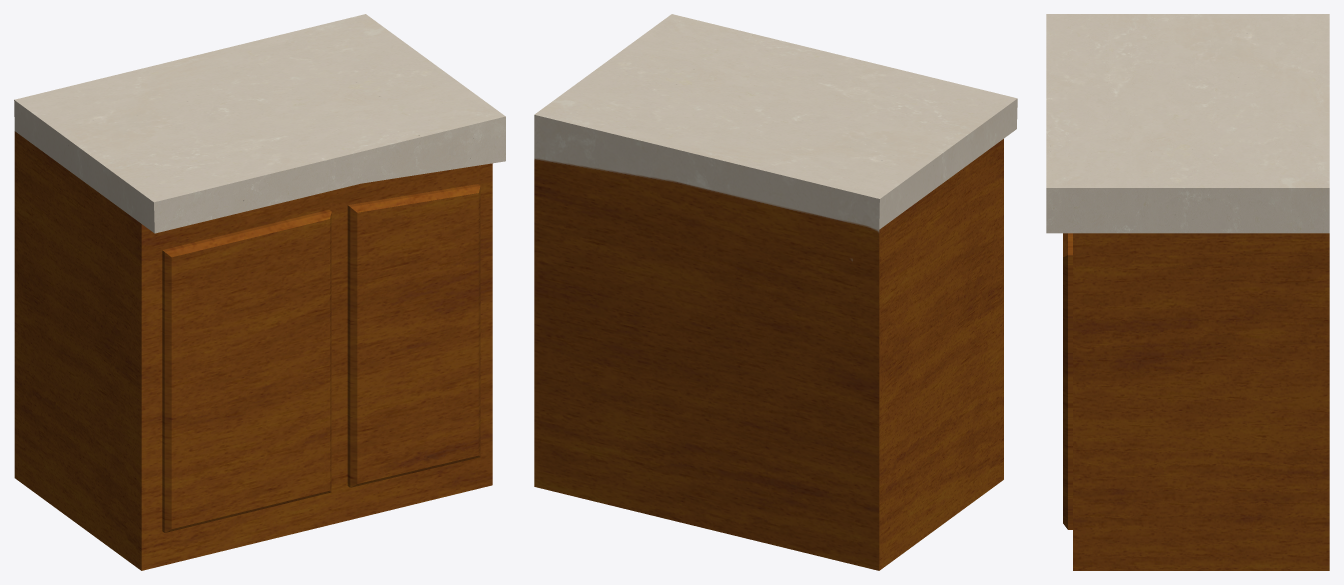
The model's file is Counter5.fbx.
3 views of the same model, side by side, from view 1: azimuth 30°, elevation 25°; view 2: azimuth 150°, elevation 25°; view 3: azimuth 270°, elevation 25° (orthographic). The views are drawn at different scales.
Visible parts, largest first — view 1: Counter5:pCube31countertop; view 2: Counter5:pCube31countertop; view 3: Counter5:pCube31countertop.
Boxes of the visible parts, <box> form: Counter5:pCube31countertop: <box>14,14,505,570</box>; Counter5:pCube31countertop: <box>534,14,1017,570</box>; Counter5:pCube31countertop: <box>1046,14,1329,570</box>.
Size of the model in its own units: 8.01 by 8.23 by 5.52.
